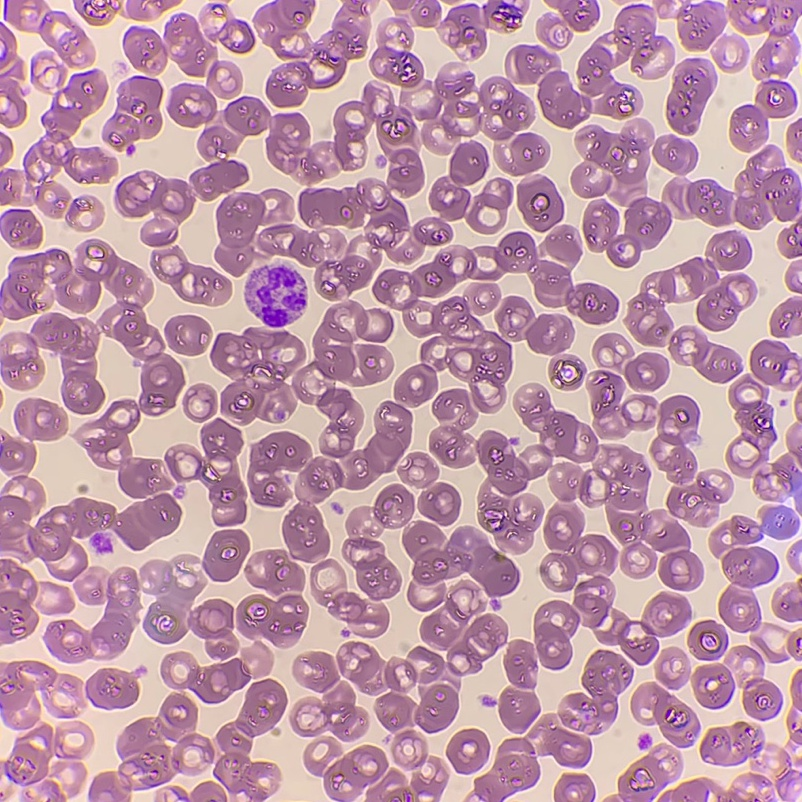RBC: (0, 240, 183, 580), (373, 232, 617, 412), (505, 5, 673, 127), (554, 447, 689, 577), (364, 142, 487, 261), (24, 71, 115, 217), (89, 695, 213, 801), (248, 432, 343, 561), (298, 149, 439, 232), (665, 148, 801, 229), (266, 0, 366, 106), (198, 97, 324, 180), (575, 575, 690, 664), (258, 224, 392, 299), (317, 388, 411, 489), (211, 328, 304, 422), (46, 568, 139, 662), (144, 563, 236, 657), (403, 521, 518, 596), (215, 680, 286, 801), (166, 420, 246, 525), (476, 431, 545, 552), (115, 160, 247, 220), (421, 583, 507, 675), (416, 74, 533, 140), (675, 231, 753, 330), (332, 86, 414, 169), (540, 507, 615, 591), (215, 189, 287, 275), (583, 198, 670, 266), (377, 662, 458, 732), (728, 0, 801, 77), (519, 390, 597, 461), (161, 652, 270, 702), (7, 0, 86, 65), (567, 650, 632, 723), (343, 517, 400, 599), (727, 377, 774, 476), (585, 125, 647, 200), (711, 516, 775, 587), (730, 81, 795, 150), (151, 249, 230, 305), (497, 297, 573, 354), (445, 0, 522, 55), (291, 685, 367, 740), (103, 76, 161, 147), (631, 685, 698, 746), (651, 396, 698, 482), (475, 738, 539, 801), (590, 371, 652, 436), (670, 327, 739, 382), (667, 470, 732, 526), (667, 59, 715, 134), (254, 0, 314, 58), (627, 271, 674, 345), (245, 268, 304, 326), (324, 746, 386, 801), (237, 594, 307, 642), (2, 727, 62, 783), (618, 747, 680, 801), (0, 559, 37, 643), (0, 661, 55, 717), (165, 16, 216, 76), (534, 601, 578, 668), (537, 0, 598, 48), (313, 314, 355, 380), (367, 767, 446, 801), (429, 410, 474, 467), (700, 722, 761, 764), (537, 719, 591, 766), (0, 25, 25, 126), (750, 341, 801, 389), (517, 178, 563, 231), (318, 591, 388, 625), (467, 179, 511, 233), (203, 530, 249, 581), (338, 642, 382, 693), (253, 550, 304, 593), (370, 46, 422, 87), (678, 4, 725, 49), (14, 399, 65, 440), (86, 669, 138, 708), (168, 84, 216, 126), (123, 28, 167, 71), (447, 729, 489, 773), (505, 133, 549, 174), (659, 549, 702, 590), (692, 665, 733, 708), (418, 483, 460, 524), (394, 365, 437, 405), (719, 588, 759, 631), (165, 315, 209, 354), (294, 652, 337, 691), (499, 689, 538, 732), (653, 136, 697, 174), (374, 485, 413, 527), (349, 303, 392, 341), (0, 209, 41, 248), (625, 353, 668, 389), (504, 640, 536, 688), (688, 621, 727, 659), (743, 678, 779, 718), (390, 0, 440, 26), (399, 453, 437, 487), (392, 730, 426, 768), (545, 226, 580, 262), (593, 333, 631, 366), (656, 648, 687, 688), (304, 739, 339, 774), (218, 18, 254, 52), (208, 61, 241, 97), (0, 437, 35, 470), (411, 647, 444, 682), (572, 166, 609, 197), (771, 299, 801, 337), (549, 357, 584, 389), (184, 385, 215, 421), (554, 774, 594, 801), (433, 389, 468, 419), (666, 780, 711, 801), (716, 38, 746, 69), (75, 0, 112, 25), (359, 345, 382, 384), (772, 456, 797, 489), (772, 592, 801, 620), (473, 284, 499, 313), (187, 782, 226, 801), (0, 169, 19, 204), (779, 229, 801, 257), (143, 228, 177, 246), (67, 197, 94, 219), (776, 769, 798, 796), (31, 54, 53, 75), (24, 479, 44, 502), (293, 378, 312, 402), (717, 789, 755, 801), (42, 781, 64, 801), (561, 712, 584, 730), (787, 120, 801, 149), (128, 0, 149, 19), (787, 435, 801, 461), (80, 588, 102, 604), (0, 134, 12, 163), (792, 672, 801, 708), (59, 675, 77, 692), (786, 272, 801, 292), (151, 0, 176, 10), (788, 633, 798, 653), (59, 597, 72, 612), (760, 489, 777, 500), (657, 0, 670, 14), (737, 646, 753, 657), (790, 729, 801, 743), (422, 129, 432, 144), (23, 716, 34, 727), (749, 774, 762, 783), (769, 653, 781, 662), (215, 5, 226, 14), (761, 507, 771, 516), (773, 529, 783, 538), (76, 769, 84, 779), (780, 754, 788, 762), (797, 394, 801, 402)
